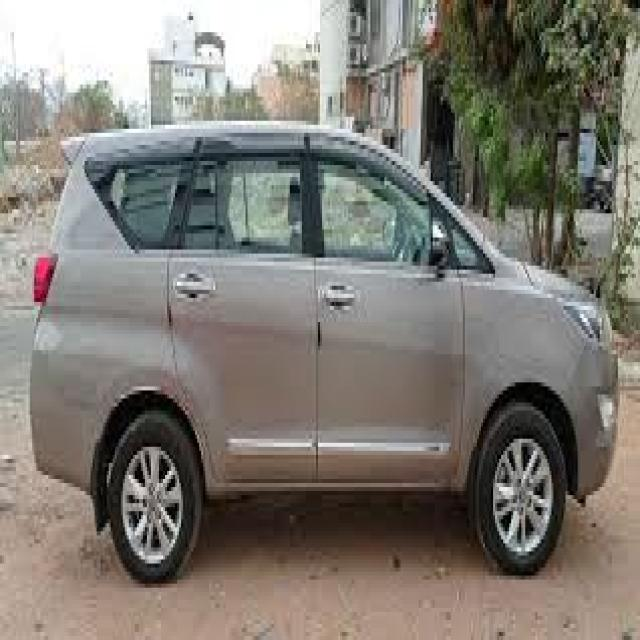light_vehicle: (30, 120, 619, 585)
